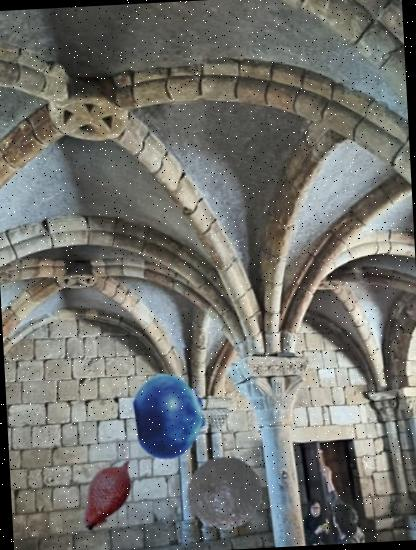Avocado: (184, 448, 272, 536)
Huckleberry: (124, 370, 216, 461)
Salak: (66, 452, 150, 536)
